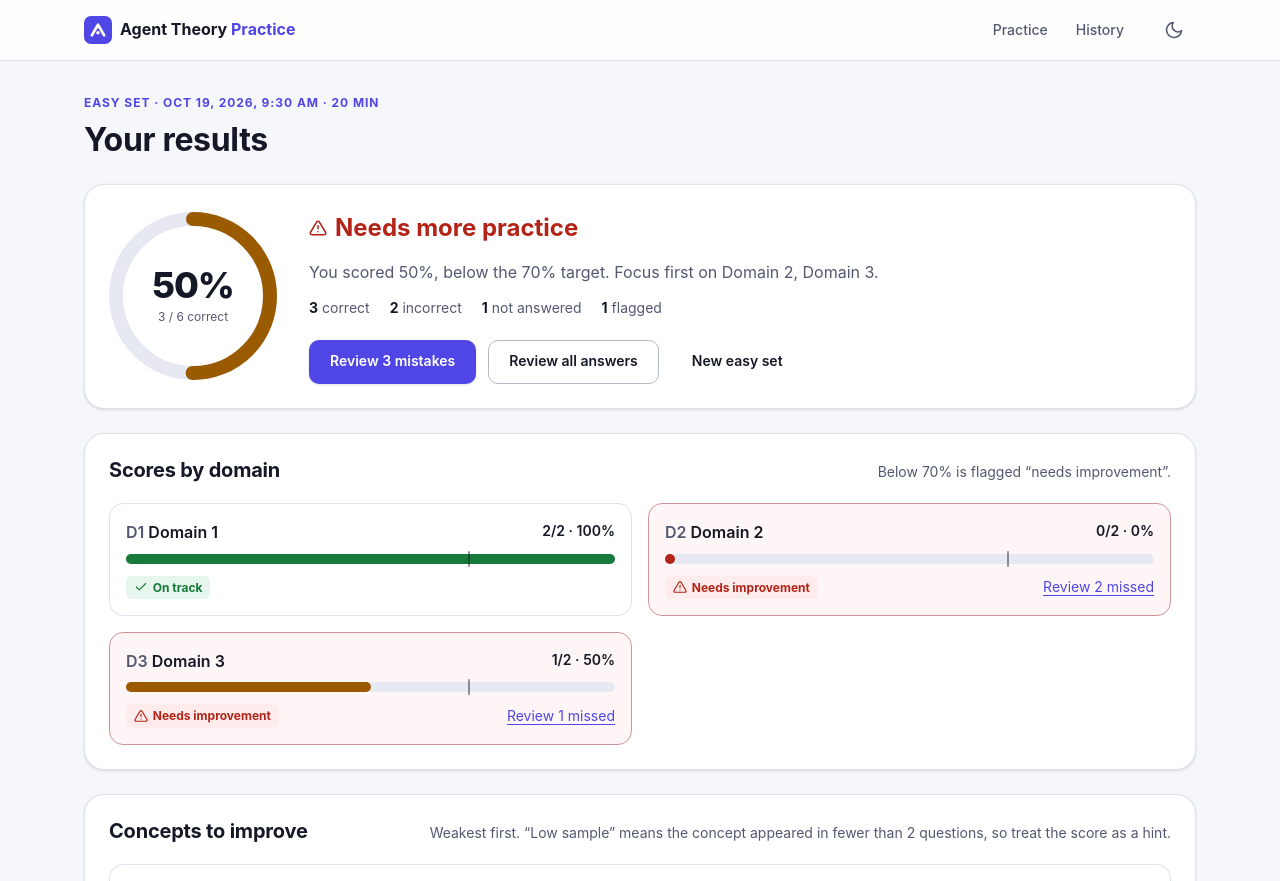
ResultsPage › offers review and a new set at the same level
The image size is (1280, 881).
Click the button "New easy set": click(737, 362) x1=671 y1=340 x2=804 y2=384
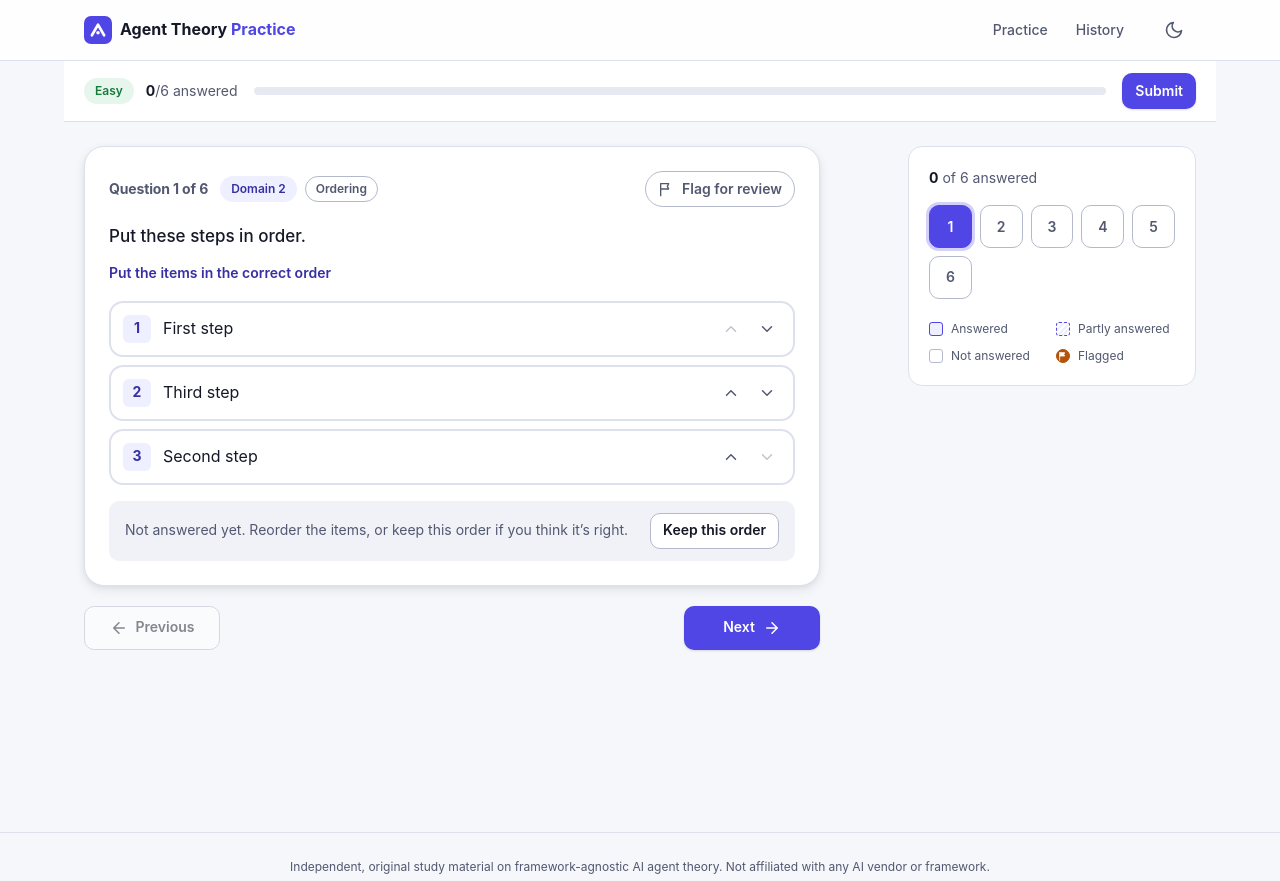
Now the heading "Question 1 of 6" is shown, box x1=109 y1=180 x2=208 y2=198
